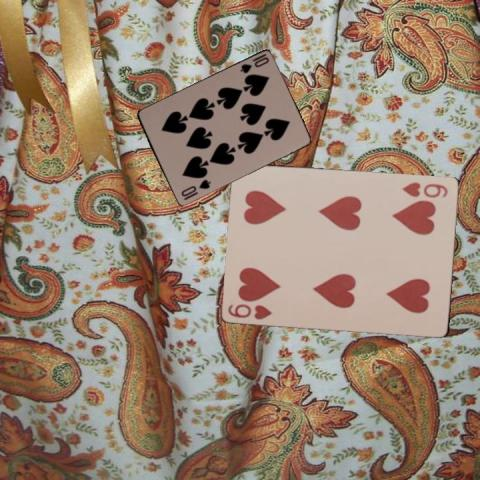10s: (237, 51, 271, 75), (178, 177, 211, 198)
6h: (400, 178, 450, 198), (225, 300, 274, 320)
